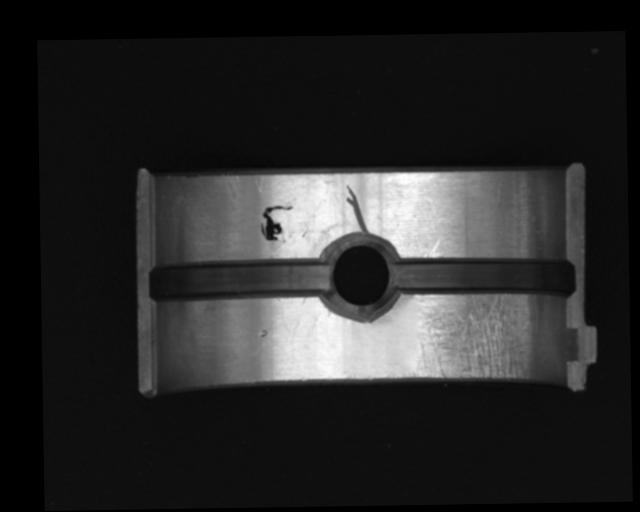blot: (258, 204, 295, 242)
bruise: (256, 327, 269, 338)
gap: (149, 255, 334, 307), (395, 255, 576, 299)
hole: (317, 235, 401, 319)
nick: (343, 183, 368, 235), (425, 238, 442, 258)
scratch: (412, 293, 541, 380)
